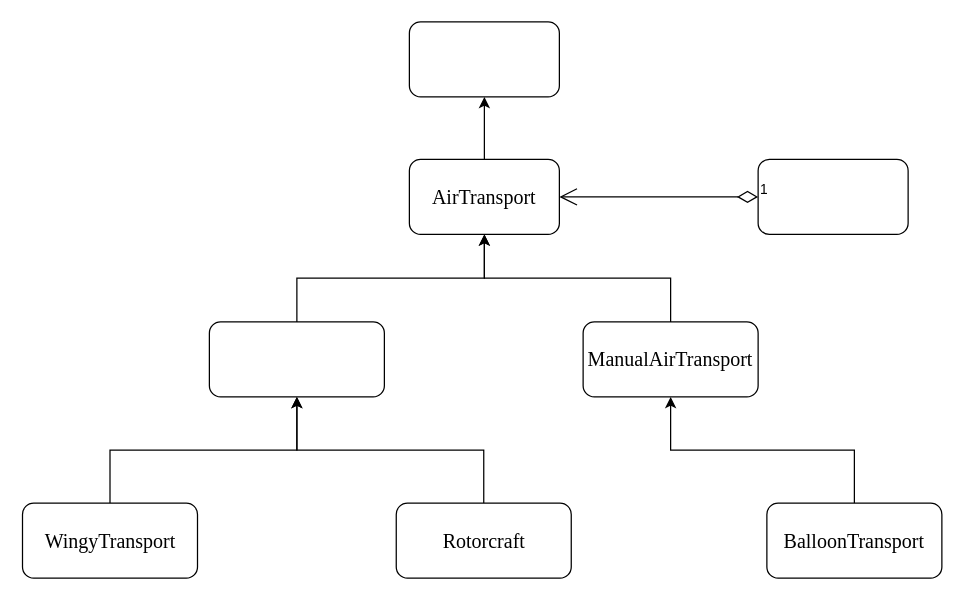
Some shapes in this 964 by 600 pixel diagram are drawn without their labels. The shapes that lost their labels are listed below. From the top down, each one's box as (x1, y1, x2, y2) in pixels, then its label:
(408, 21, 559, 97): IAirTransport
(757, 158, 908, 234): Stack
(208, 321, 384, 397): EngineAirTransport
